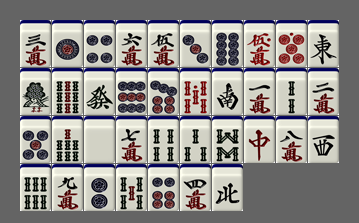0m: (244, 20, 275, 67)
0p: (276, 20, 307, 67)
0s: (180, 68, 211, 115)
1m: (244, 68, 275, 115)
1p: (52, 20, 83, 67)
1s: (20, 68, 51, 115)
1z: (308, 20, 339, 67)
2m: (308, 68, 339, 115)
2p: (84, 164, 115, 211)
2s: (276, 68, 307, 115)
2z: (212, 68, 243, 115)
3m: (20, 20, 51, 67)
3p: (180, 20, 211, 67)
3s: (180, 116, 211, 163)
3z: (308, 116, 339, 163)
4m: (180, 164, 211, 211)
4p: (84, 20, 115, 67)
4s: (148, 116, 179, 163)
4z: (212, 164, 243, 211)
5m: (148, 20, 179, 67)
5p: (20, 116, 51, 163)
5s: (116, 164, 147, 211)
5z: (84, 116, 115, 163)
6m: (116, 20, 147, 67)
6p: (148, 164, 179, 211)
6s: (20, 164, 51, 211)
6z: (84, 68, 115, 115)
7m: (116, 116, 147, 163)
7p: (148, 68, 179, 115)
7s: (52, 116, 83, 163)
7z: (244, 116, 275, 163)
8m: (276, 116, 307, 163)
8p: (212, 20, 243, 67)
8s: (212, 116, 243, 163)
9m: (52, 164, 83, 211)
9p: (116, 68, 147, 115)
9s: (52, 68, 83, 115)
